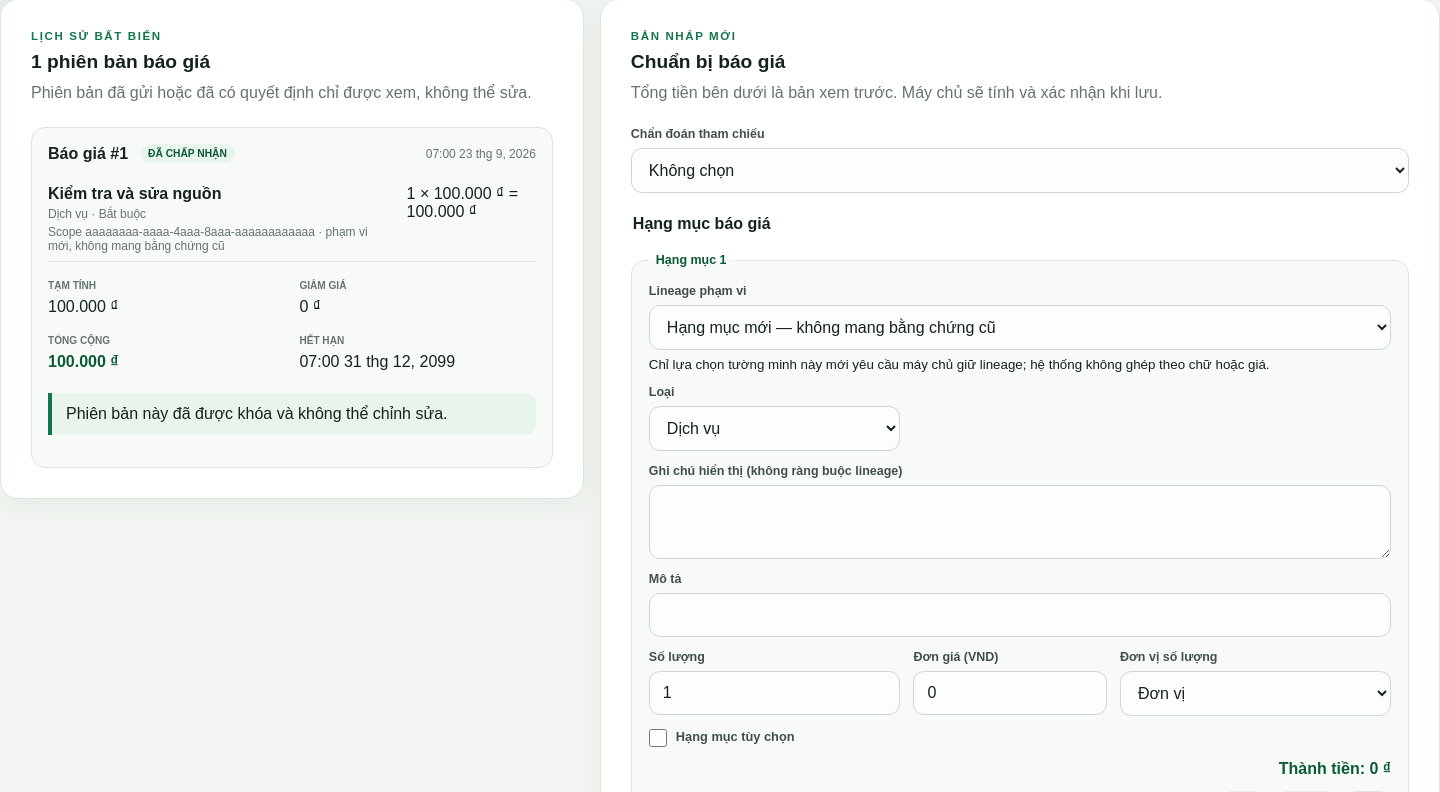
Test: QuotePanel › blocks duplicated carried lineage instead of matching items by editable text or price
This screenshot has width=1440, height=792.
Select "Mang từ Kiểm tra và sửa nguồn · aaaaaaaa" in the dropdown labelled "Lineage phạm vi" at (1020,328), box [649,305,1391,350]
(page scrolled)
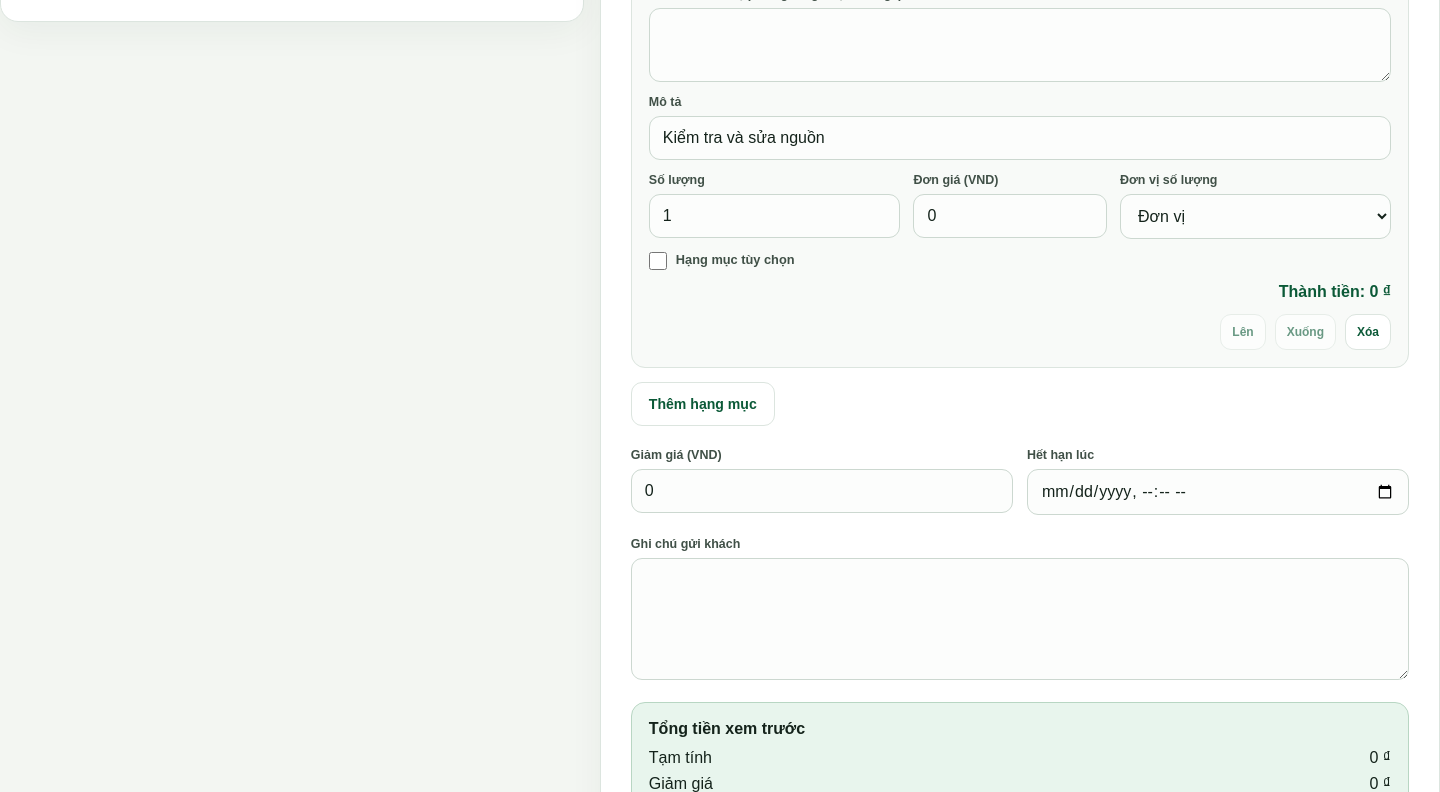
Click the button "Thêm hạng mục" at (703,404), box [631,382,775,426]
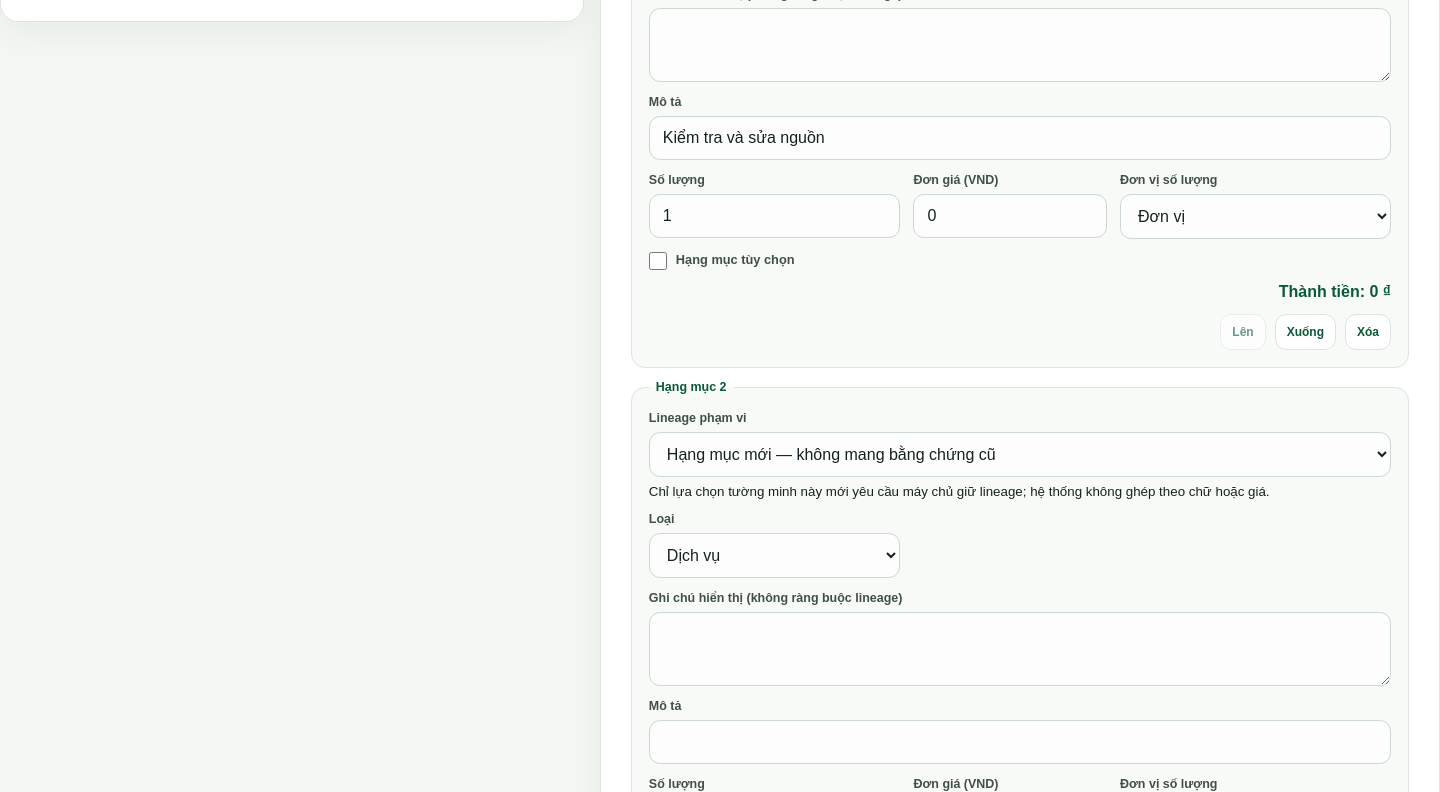
Select "Mang từ Kiểm tra và sửa nguồn · aaaaaaaa" in the dropdown labelled "Lineage phạm vi" at (1020,454), box [649,432,1391,477]
(page scrolled)
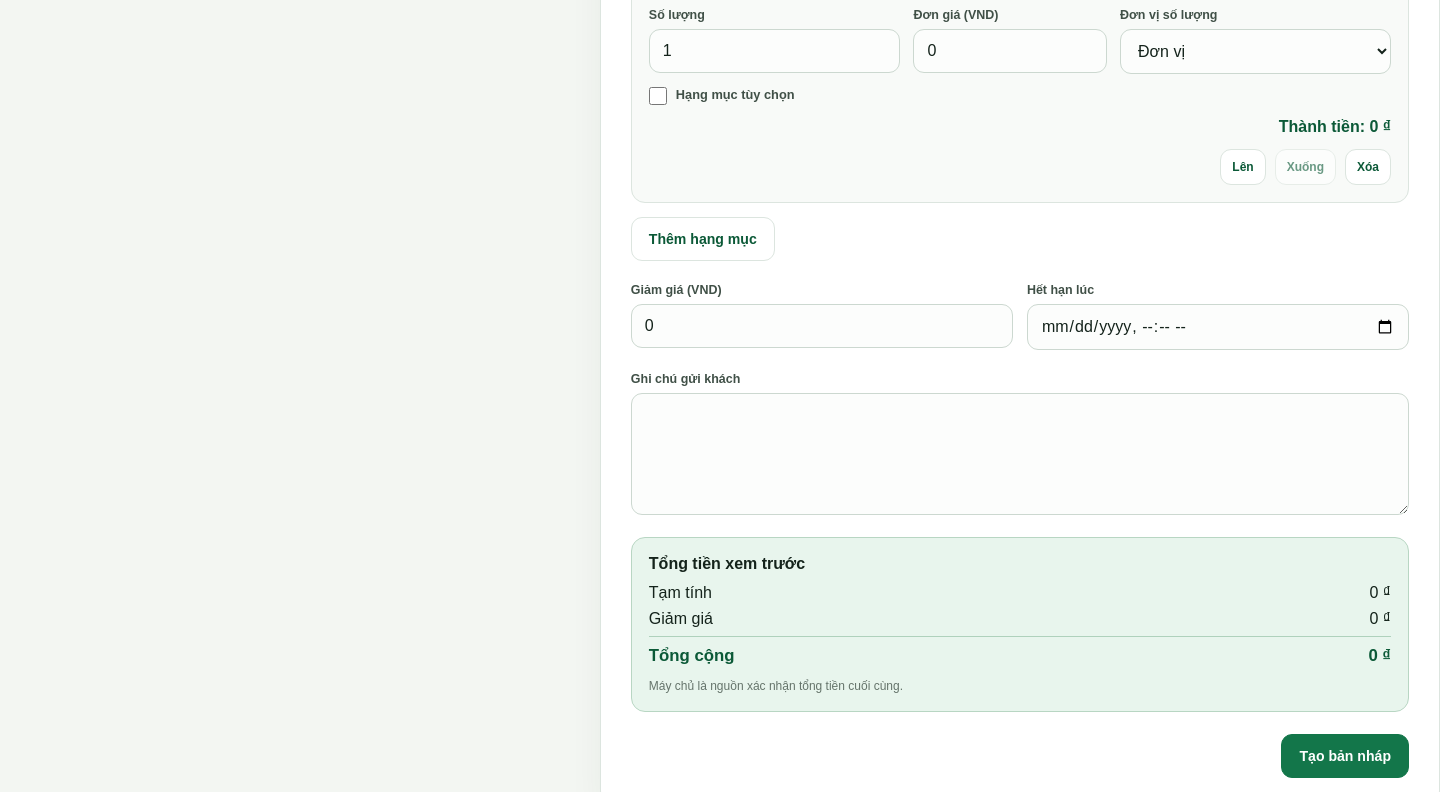
Click the button "Tạo bản nháp" at (1345,756), box [1282,734,1409,778]
(page scrolled)
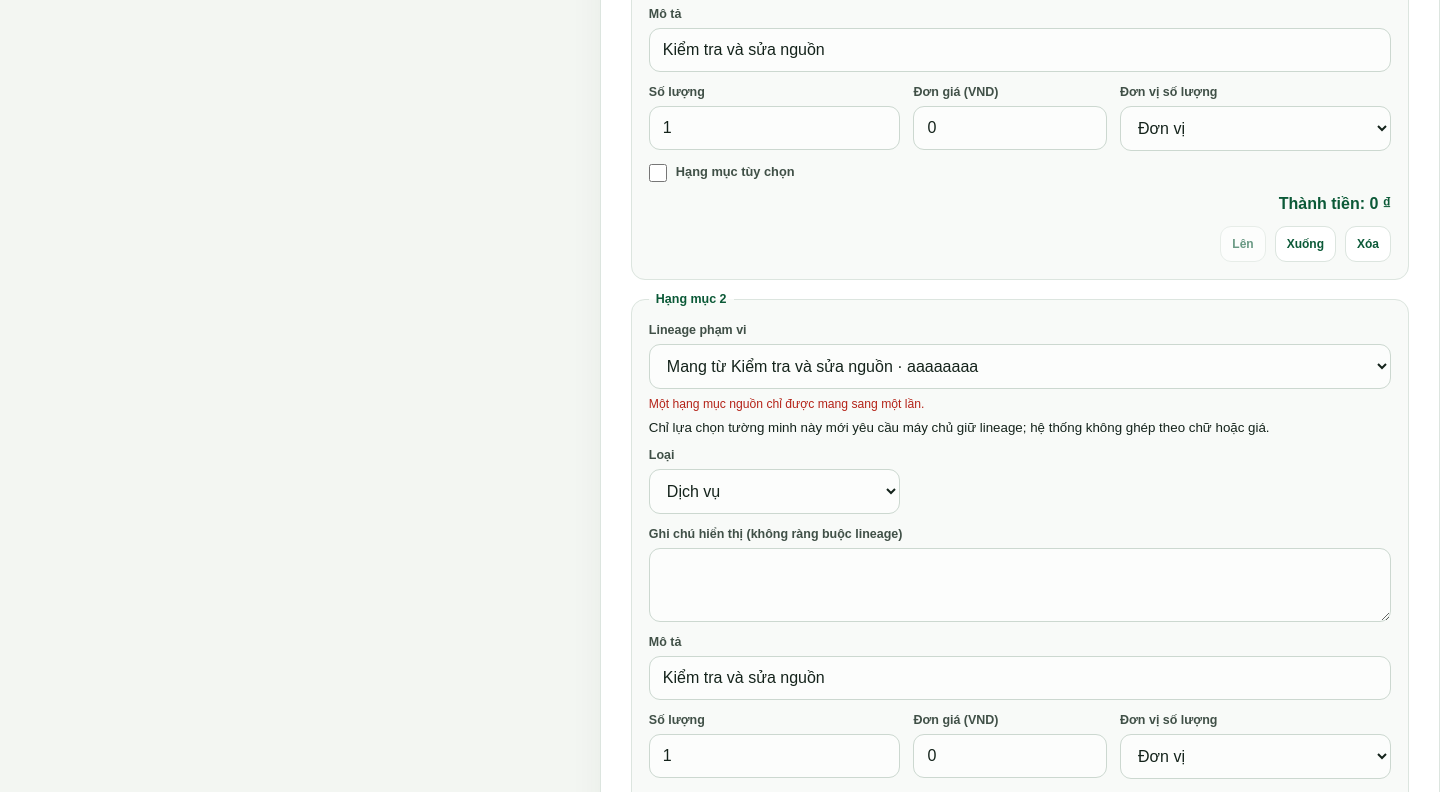
Check: the text "Một hạng mục nguồn chỉ được mang sang một lần." is shown, box [649,397,924,411]
